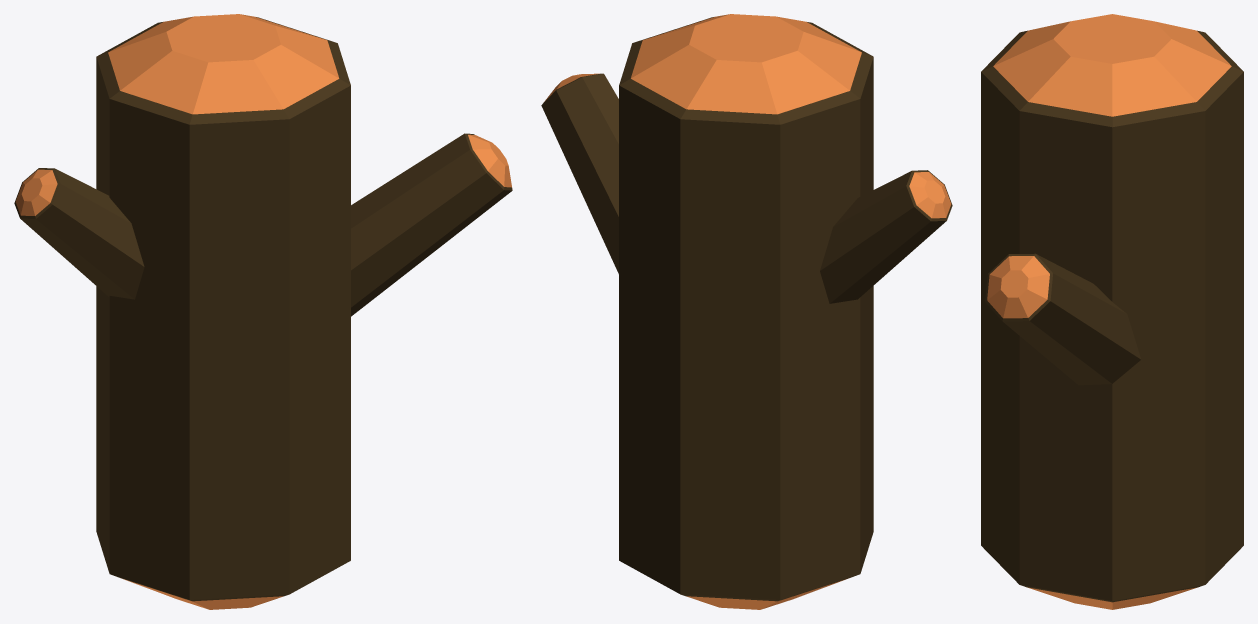
The model's file is woodLog.fbx.
3 views of the same model, side by side, from view 1: azimuth 30°, elevation 25°; view 2: azimuth 150°, elevation 25°; view 3: azimuth 270°, elevation 25° (orthographic).
Parts seen in each view (by area): view 1: WoodLog; view 2: WoodLog; view 3: WoodLog.
Part boxes in pixels (x1=…): WoodLog: x1=14, y1=14, x2=512, y2=609; WoodLog: x1=541, y1=14, x2=952, y2=609; WoodLog: x1=981, y1=14, x2=1243, y2=609.
Size of the model in its own units: 74.71 by 88.42 by 38.41.
